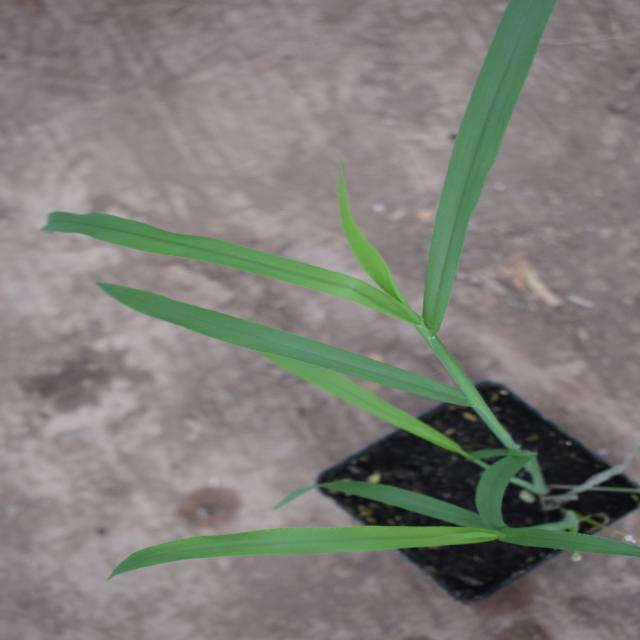crabgrass: (215, 67, 640, 547), (57, 103, 177, 601)
